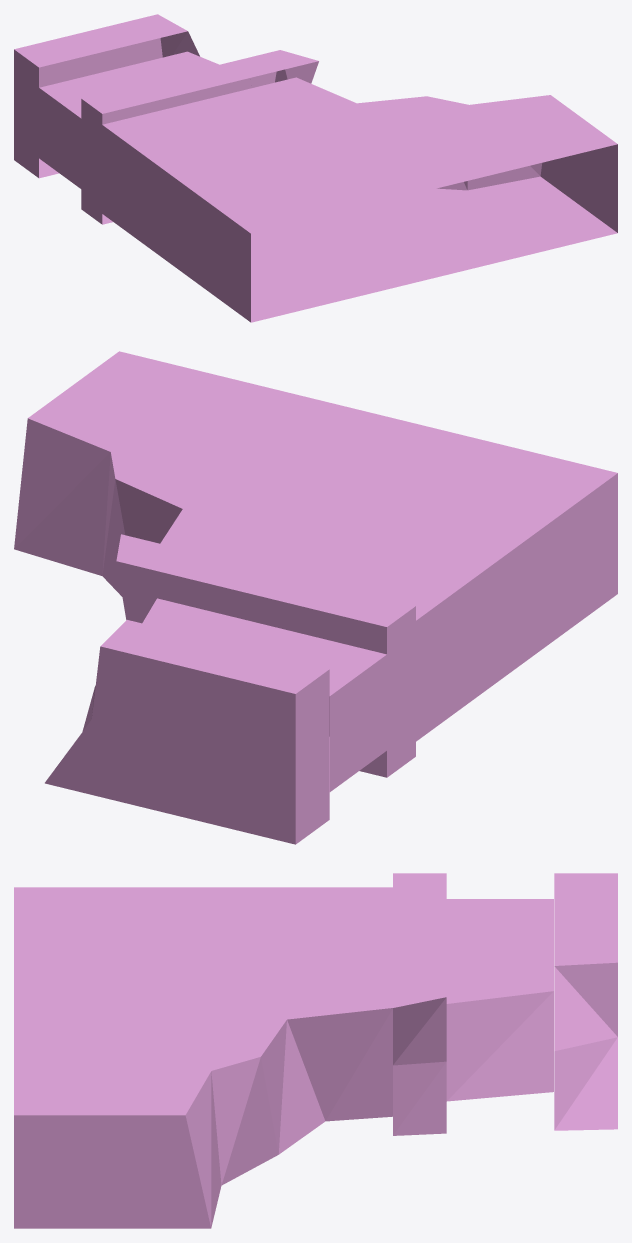
3 renders of one model, top to bottom at view 1: azimuth 30°, elevation 25°; view 2: azimuth 150°, elevation 25°; view 3: azimuth 270°, elevation 25°, orthographic. The views are drawn at different scales.
Parts seen in each view (by area): view 1: Object35; view 2: Object35; view 3: Object35.
Part boxes in pixels (x1,y1,x2,y2): Object35: [14, 14, 617, 322]; Object35: [14, 351, 617, 844]; Object35: [14, 873, 617, 1228].
Bounding box in the file's own units: 14949 × 4314 × 16731.
